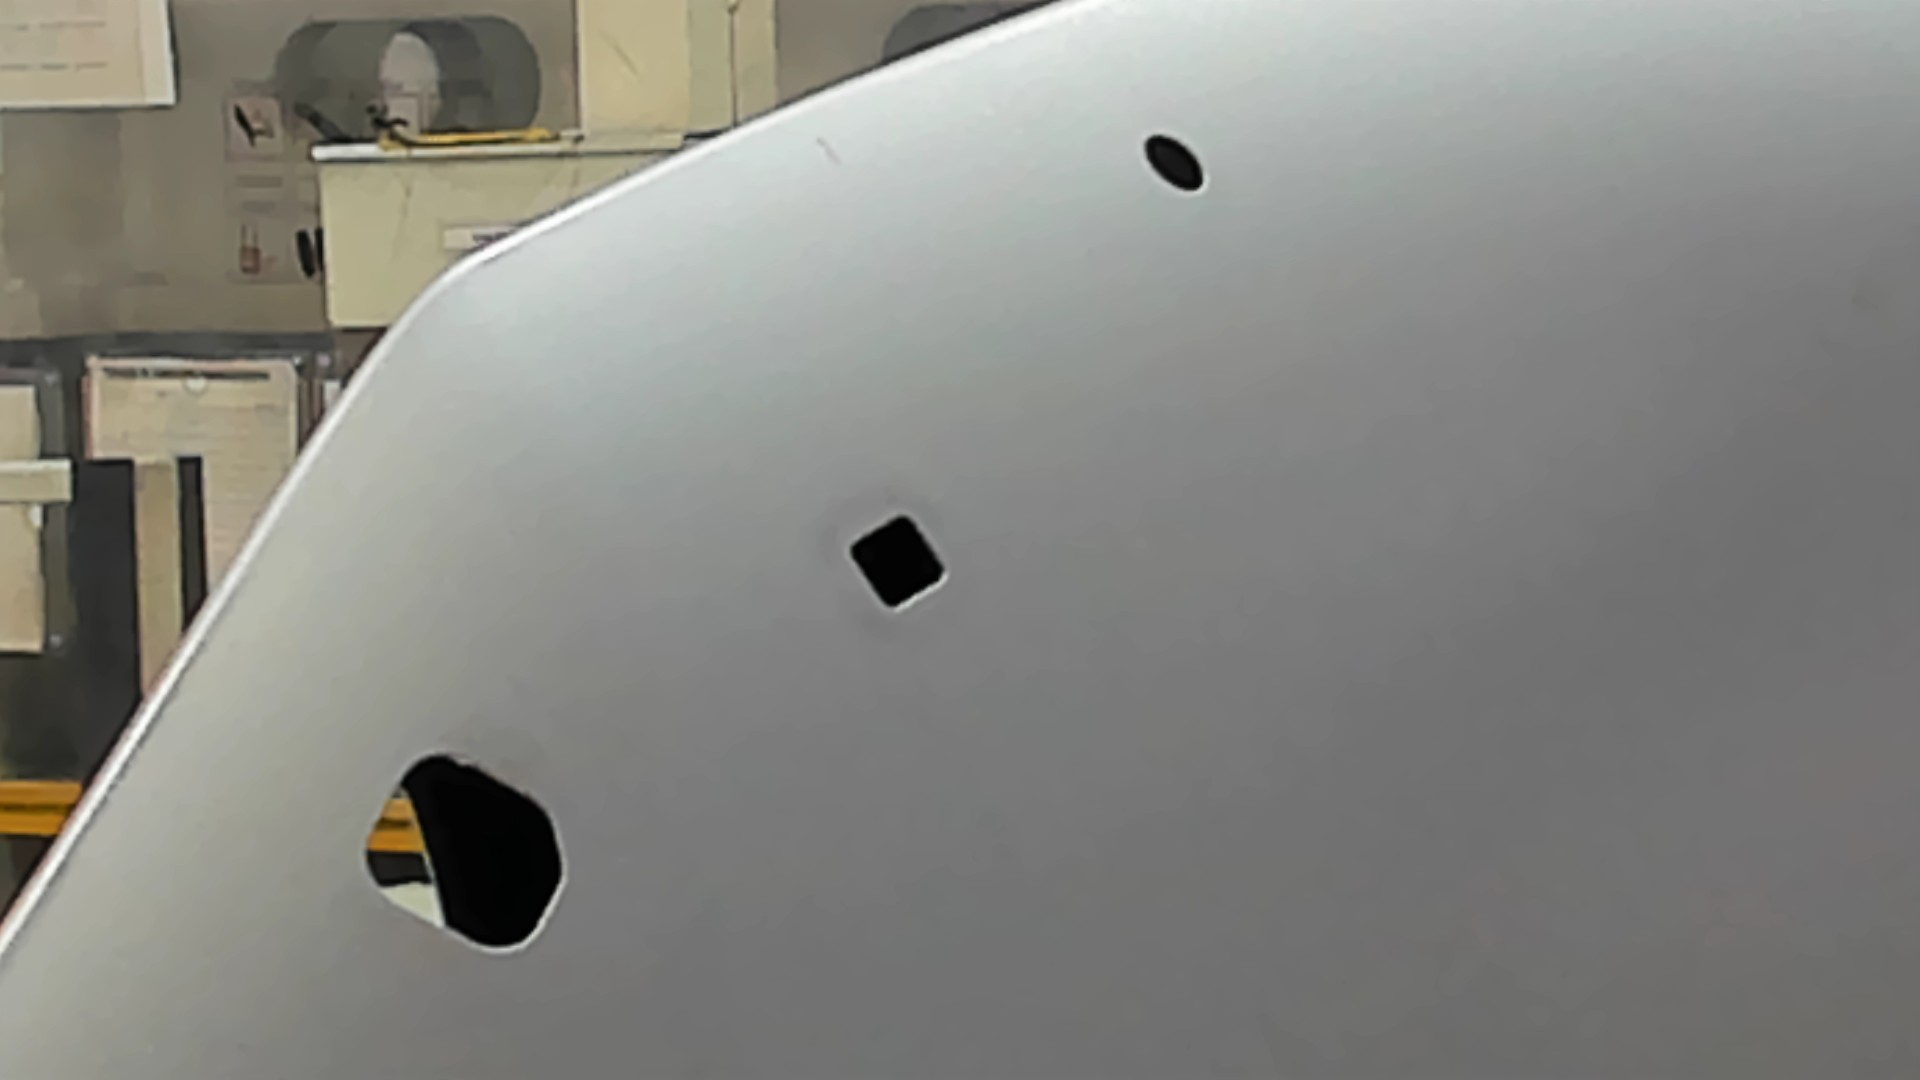Agujero: (847, 512, 949, 615), (1142, 132, 1207, 193)
Agujerote: (361, 752, 568, 955)
